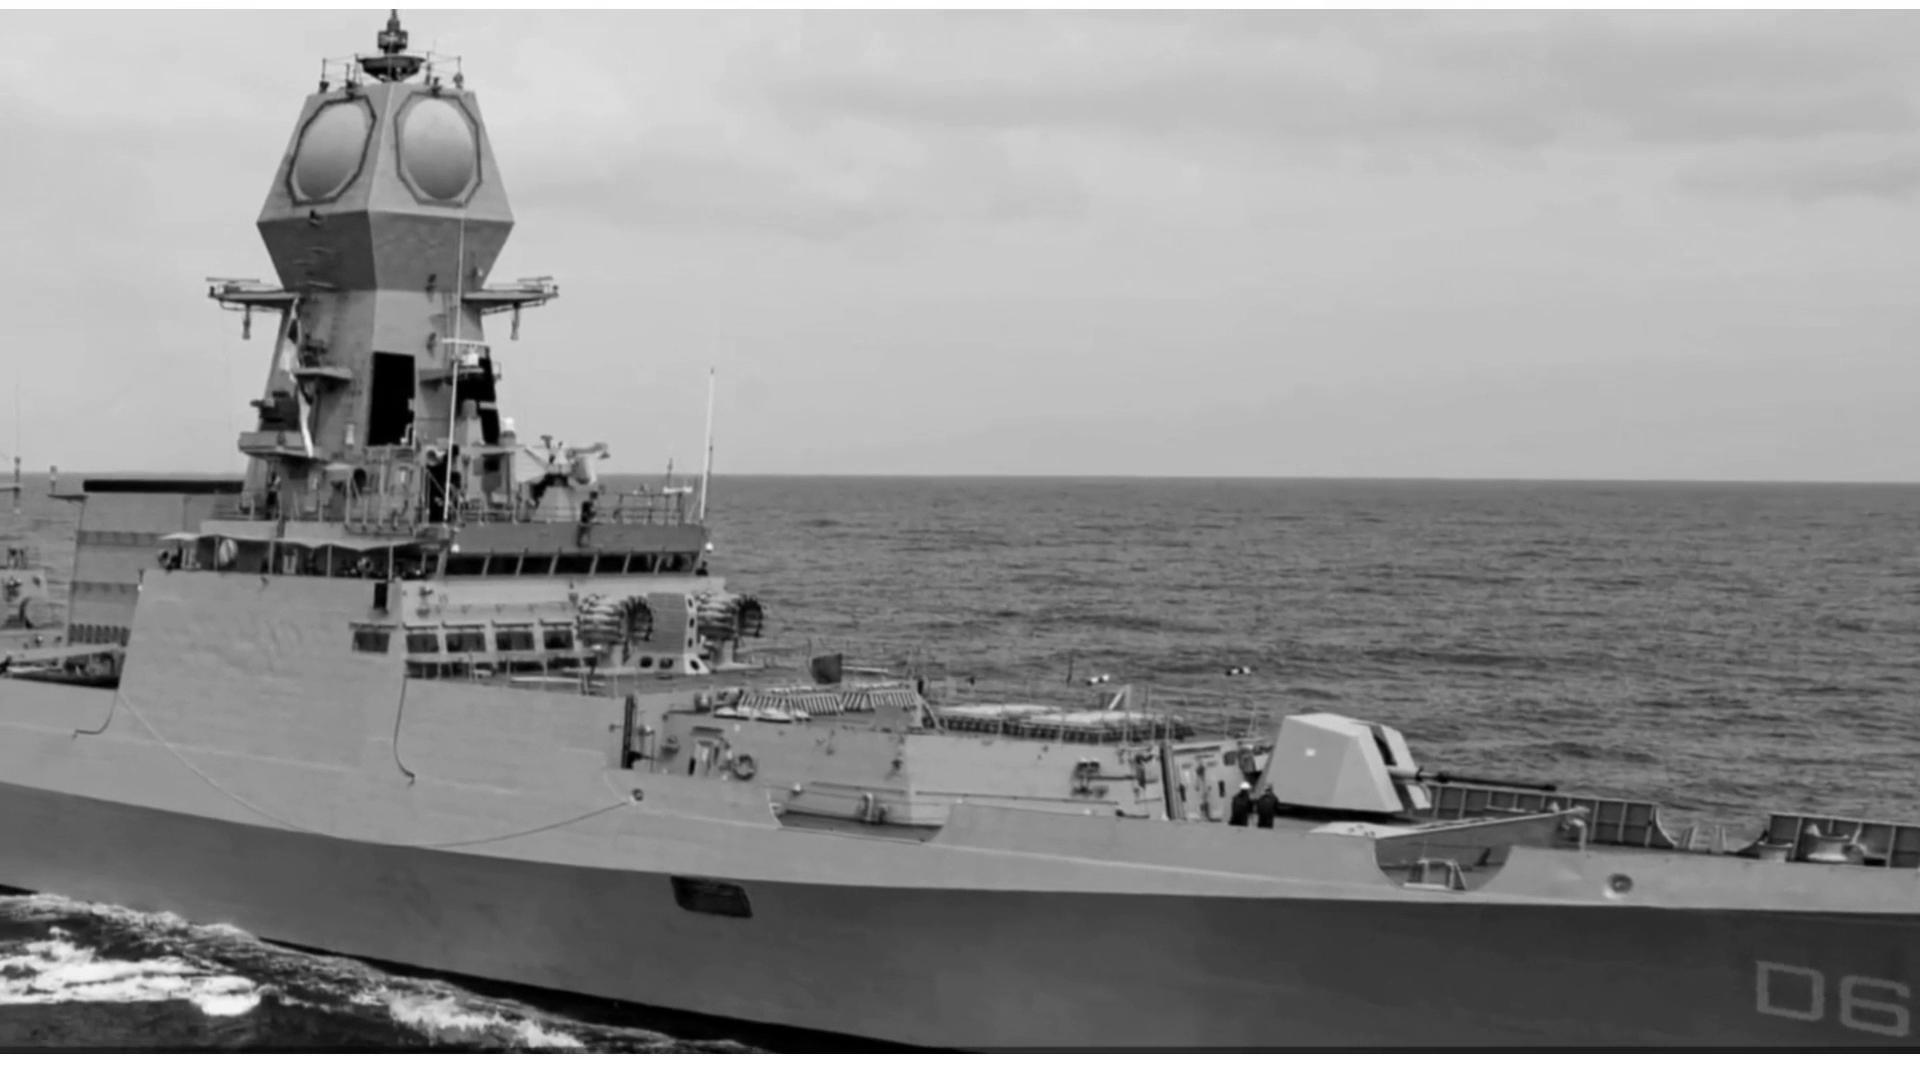OCR: (1740, 949, 1920, 1038)
